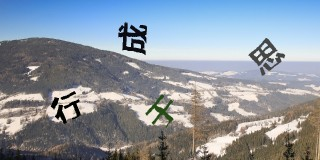于: (145, 94, 174, 127)
思: (247, 38, 286, 76)
成: (118, 21, 148, 55)
行: (51, 90, 81, 124)
